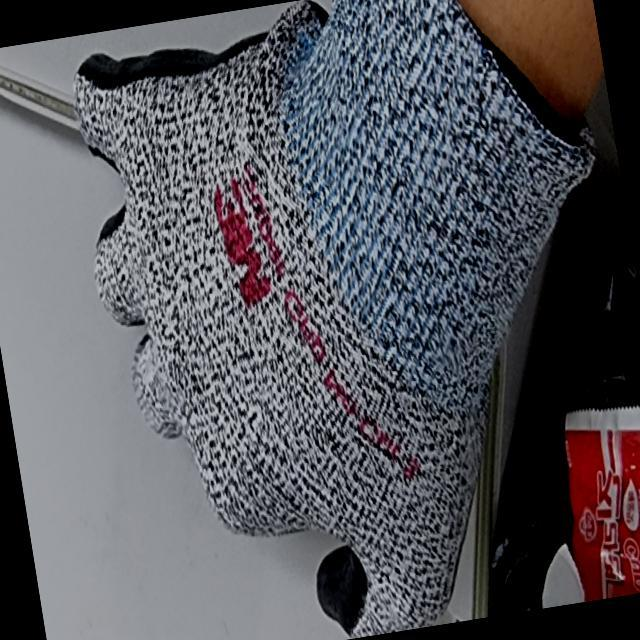Gloves: (74, 0, 604, 640)
